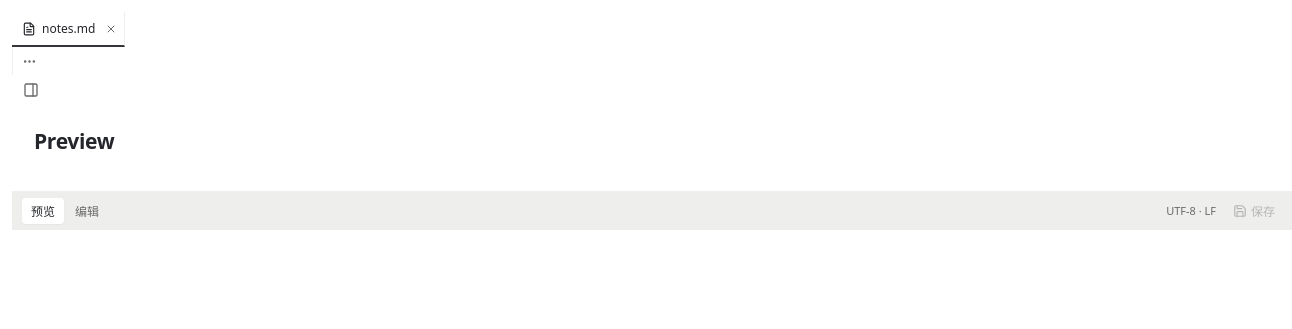
Scenario: remembers the preferred inner width while shrinking, reopening, and widening the panel
expect the heading "Preview" is shown: met, box left=34, top=127, right=114, bottom=155
Click the button named "目录侧栏" at (31, 90), box left=16, top=75, right=46, bottom=105
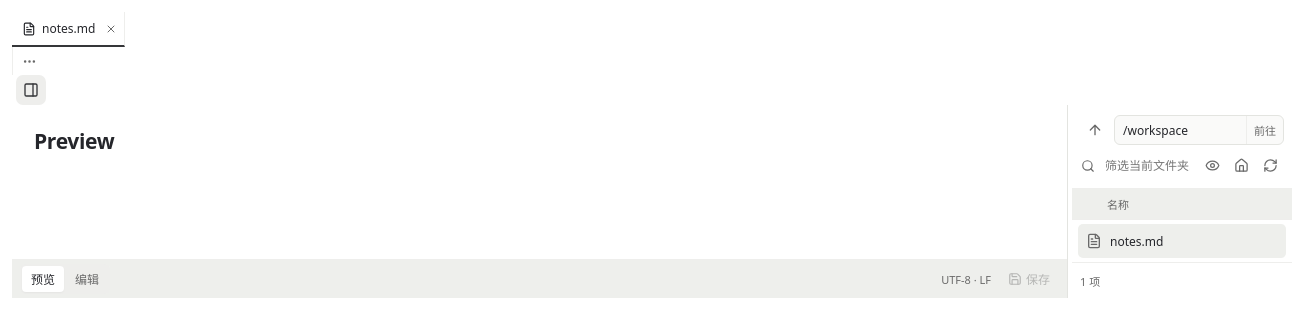
expect the button "notes.md" is shown: met, box left=1078, top=224, right=1286, bottom=258
Press ArrowLeft in the element named "调整目录侧栏宽度", box left=1067, top=105, right=1072, bottom=298
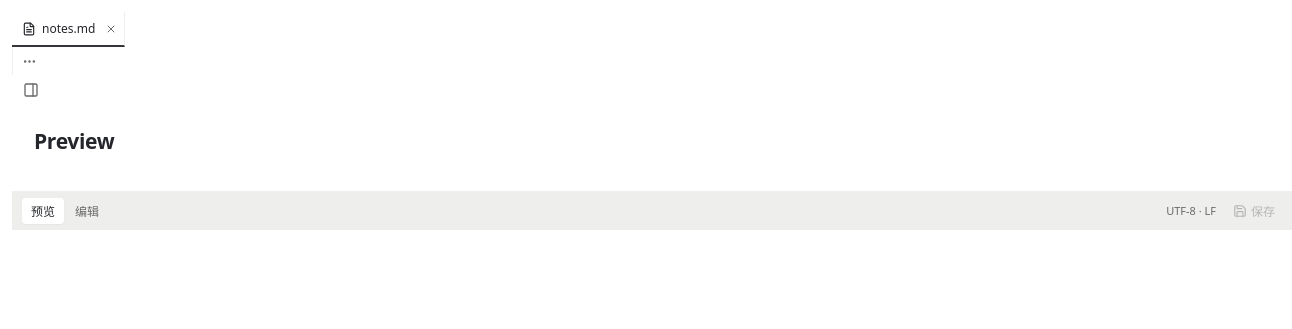
expect the heading "Preview" is shown: met, box left=34, top=127, right=114, bottom=155
expect the element "文件夹浏览" is gone: met
Click the button named "目录侧栏" at (31, 90), box left=16, top=75, right=46, bottom=105
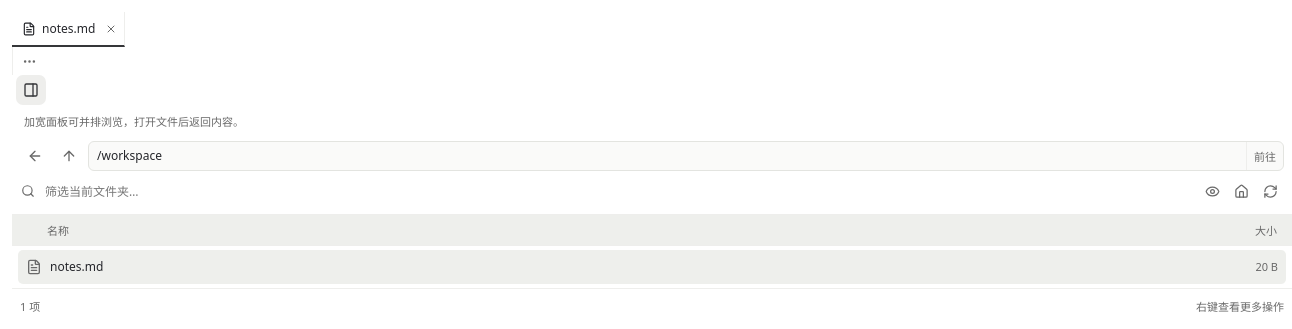
expect the text "加宽面板可并排浏览，打开文件后返回内容。" is shown: met, box left=24, top=114, right=244, bottom=129
Click the button "notes.md 20 B" at (77, 267), box left=18, top=250, right=1286, bottom=284
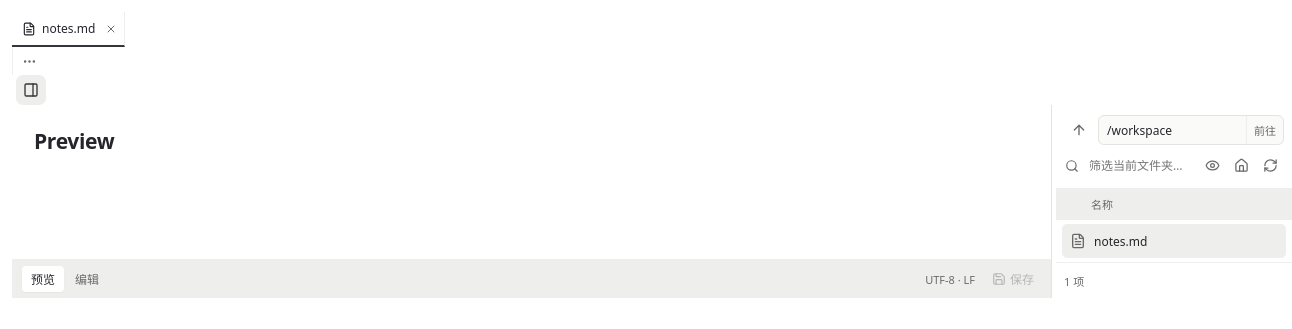
expect the element named "文件夹浏览" is shown: met, box left=1056, top=105, right=1291, bottom=298
Click the button named "关闭 notes.md" at (111, 28), box left=102, top=20, right=120, bottom=38
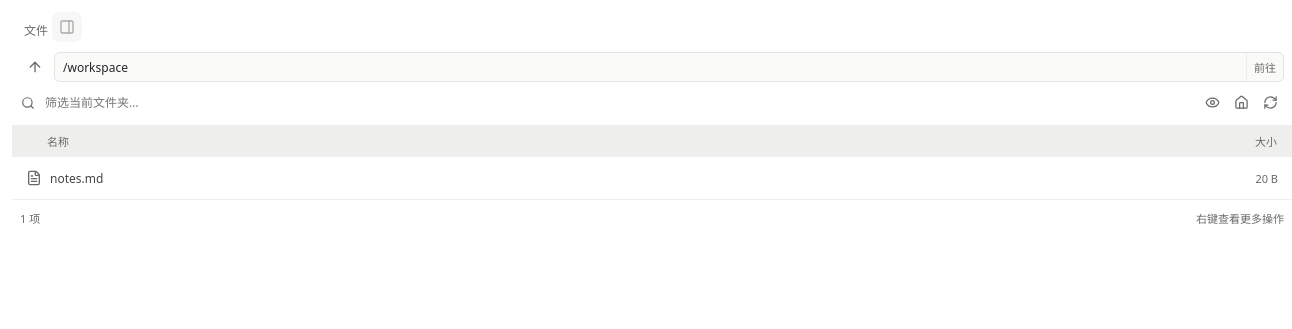
expect the element named "文件夹浏览" is shown: met, box left=12, top=42, right=1291, bottom=235
expect the element "调整目录侧栏宽度" is gone: met
